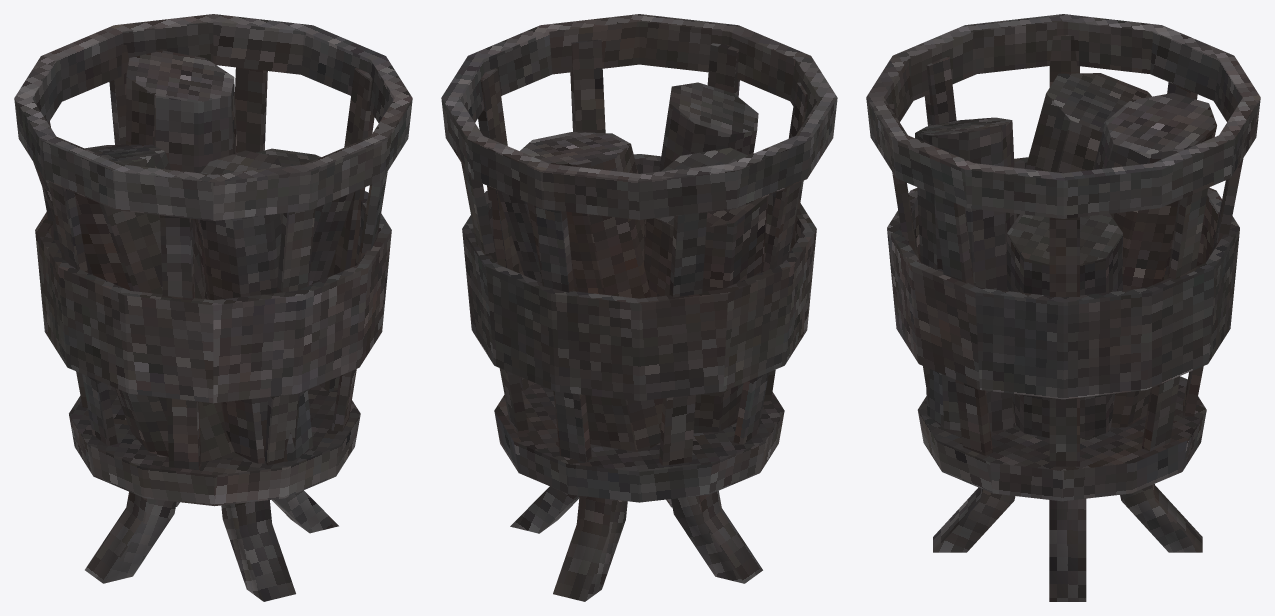
Rendered from Brazier_3.gltf.
3 views of the same model, side by side, from view 1: azimuth 30°, elevation 25°; view 2: azimuth 150°, elevation 25°; view 3: azimuth 270°, elevation 25° (orthographic).
Visible parts, largest first — view 1: Brazier_3; view 2: Brazier_3; view 3: Brazier_3.
Boxes of the visible parts, x1,y1,x2,y2 form: Brazier_3: (14,14,412,601); Brazier_3: (441,14,837,601); Brazier_3: (866,14,1260,601).
Size of the model in its own units: 2.56 by 3.21 by 2.56.
1 material, 1 textured.
